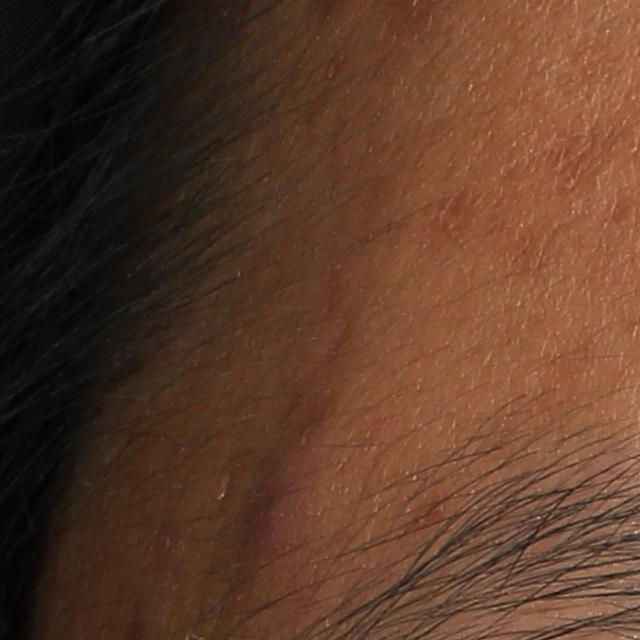nodule: (232, 393, 339, 589)
